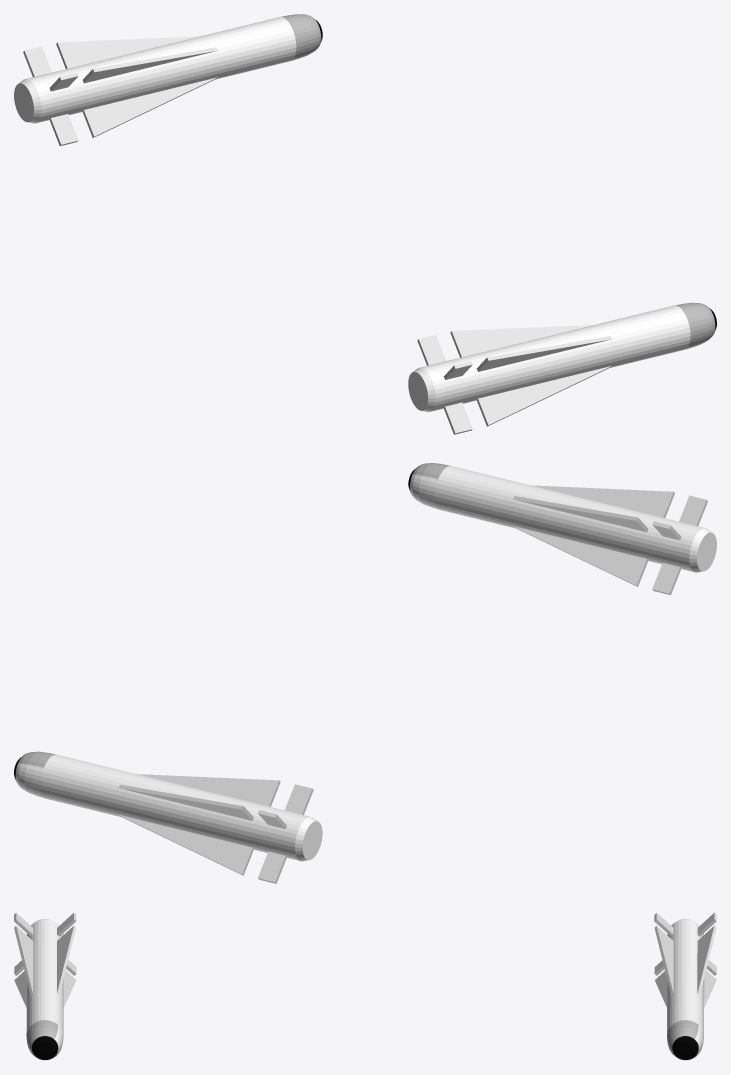
Rendered from f5fagm6514.glb.
The picture shows the model from 3 angles, top to bottom: view 1: azimuth 30°, elevation 25°; view 2: azimuth 150°, elevation 25°; view 3: azimuth 270°, elevation 25°; orthographic projection. The views are drawn at different scales.
Parts seen in each view (by area): view 1: 立方体.004, 立方体.002; view 2: 立方体.002, 立方体.004; view 3: 立方体.002, 立方体.004.
Boxes of the visible parts, x1,y1,x2,y2 form: 立方体.004: (14,14,322,145); 立方体.002: (408,302,716,434); 立方体.002: (408,463,716,595); 立方体.004: (14,751,322,883); 立方体.002: (14,913,76,1060); 立方体.004: (654,912,716,1060).
Size of the model in its own units: 2.51 by 0.5697 by 6.39.
Materials: 1 (1 with a texture image).
